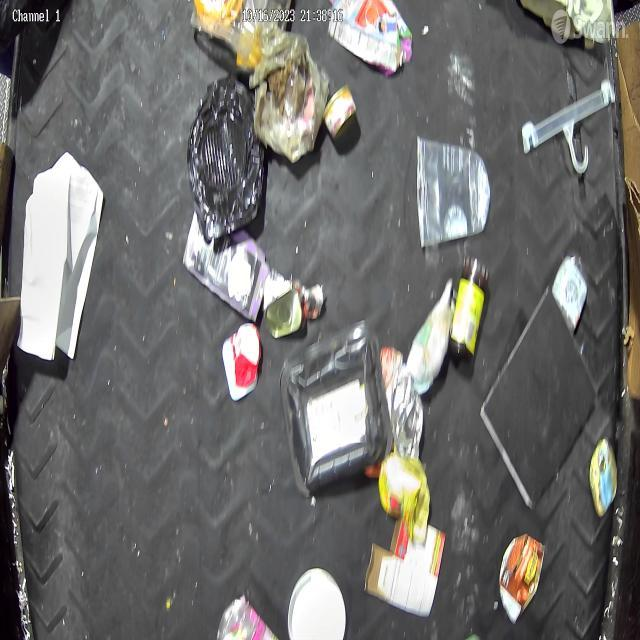can: (263, 268, 303, 338), (322, 83, 357, 143)
